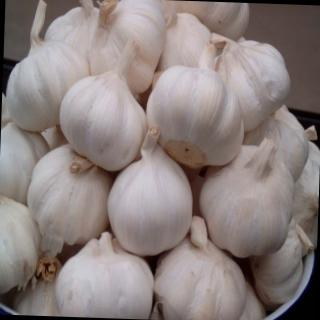Bawang Putih: (143, 40, 256, 181)
